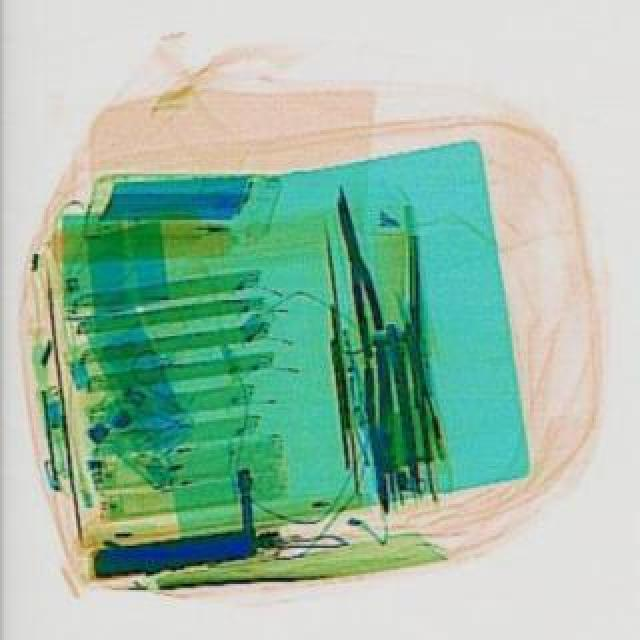wrench: (322, 180, 390, 356)
